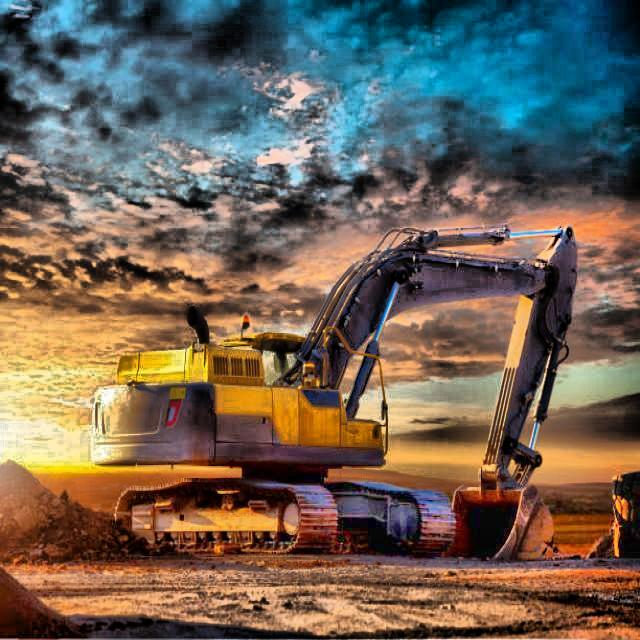excavator: (89, 225, 579, 562)
